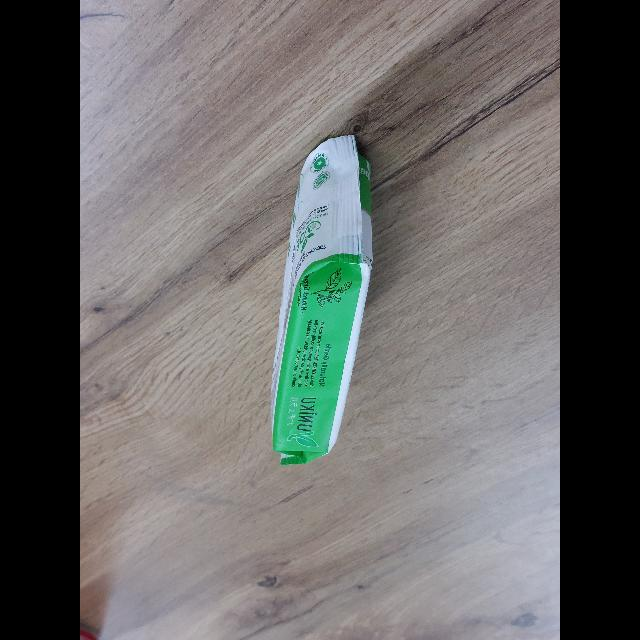khan_giay: (272, 136, 372, 465)
